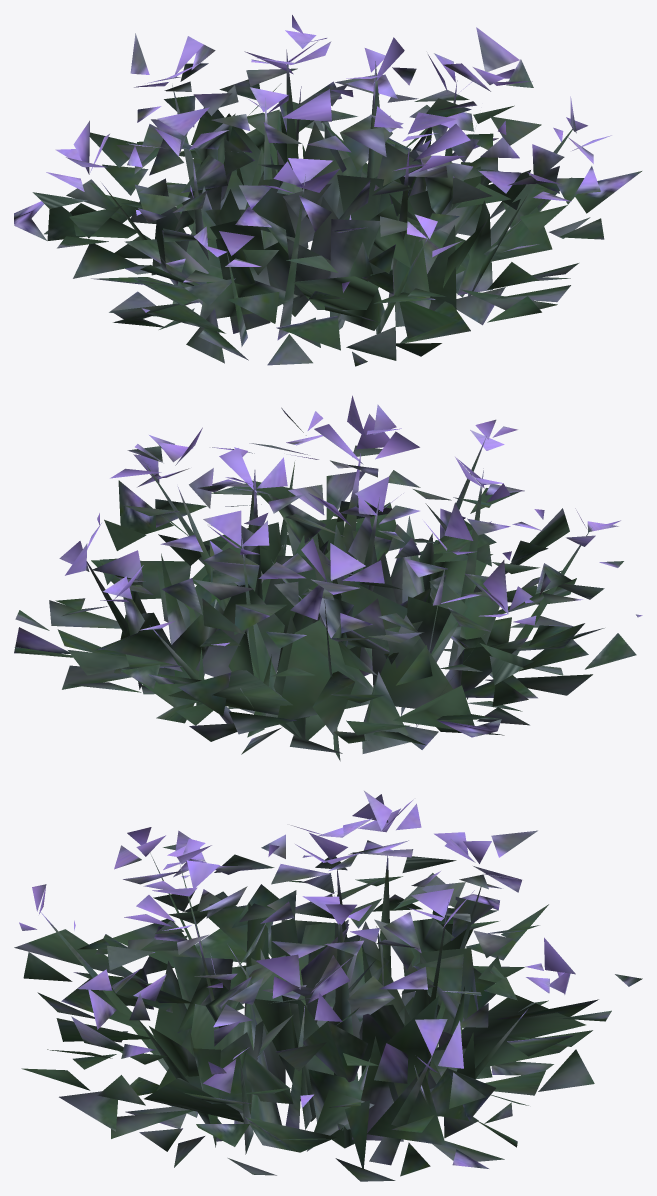
File: v-fleurs-lavande-semis.glb
The picture shows the model from 3 angles, top to bottom: view 1: azimuth 30°, elevation 25°; view 2: azimuth 150°, elevation 25°; view 3: azimuth 270°, elevation 25°; orthographic projection. The views are drawn at different scales.
Visible parts, largest first — view 1: v-fleurs-lavande-semis; view 2: v-fleurs-lavande-semis; view 3: v-fleurs-lavande-semis.
Boxes of the visible parts, x1,y1,x2,y2 form: v-fleurs-lavande-semis: (14,15,641,366); v-fleurs-lavande-semis: (14,395,642,761); v-fleurs-lavande-semis: (14,791,642,1181).
Bounding box in the file's own units: 1.97 × 0.8577 × 1.94.
1 material, 1 textured.
